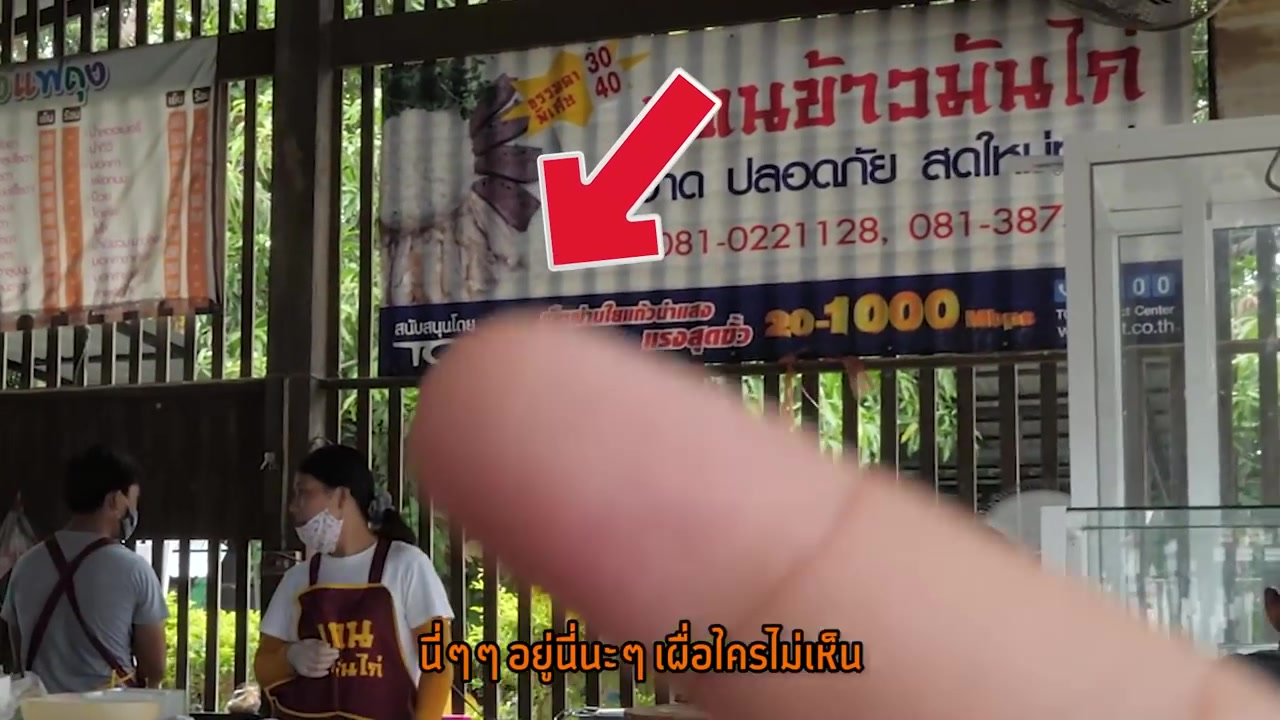text-label: (414, 617, 867, 687)
